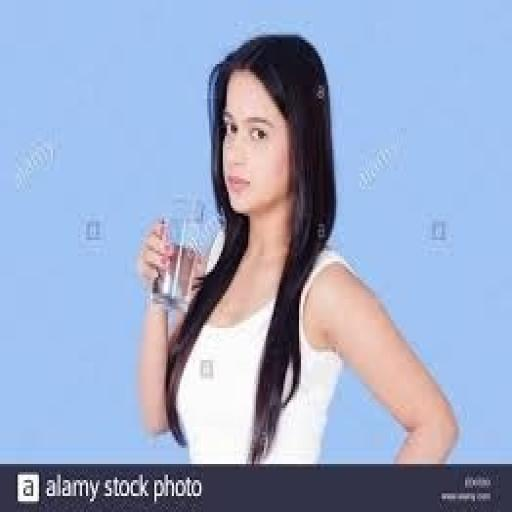drinking: (146, 195, 219, 312)
